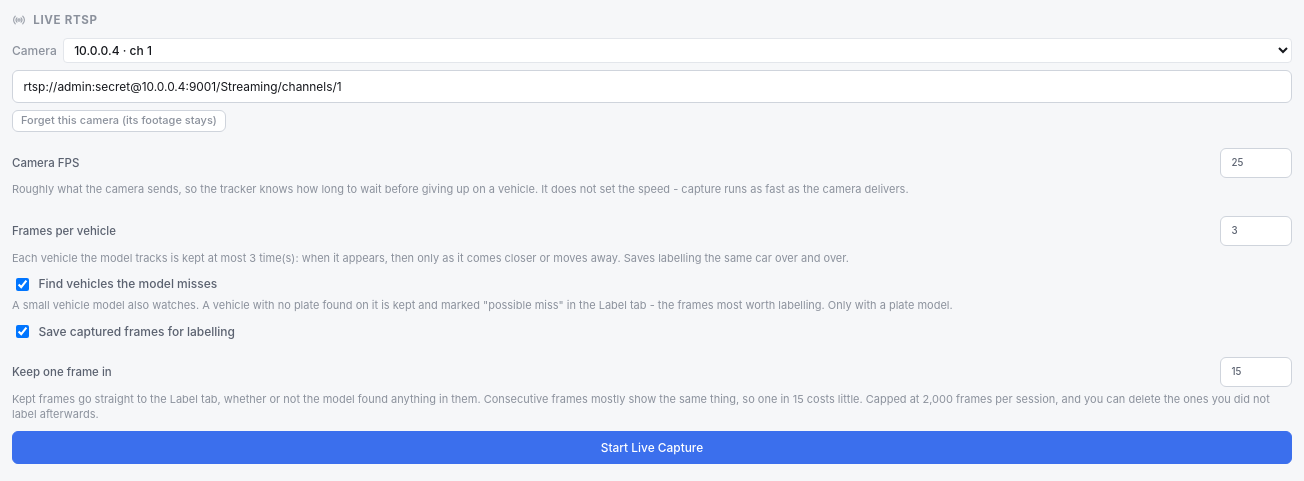
Test: Starting a camera you have started before › switches the whole configuration when another camera is picked
Select "10.0.0.5 · ch 2" in the dropdown named "saved camera" at [678, 51], box [63,38,1292,63]
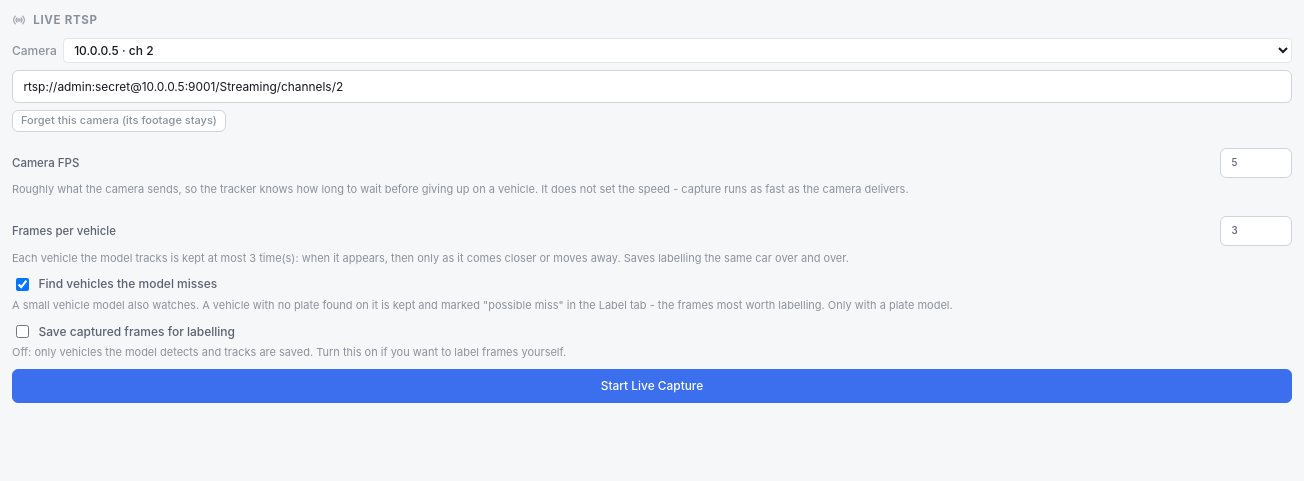
Check: the number field labelled "Camera FPS" holds "5", box [1220,148,1292,178]
Check: the checkbox labelled "Save captured frames for labelling" is not checked, box [16,325,29,338]
